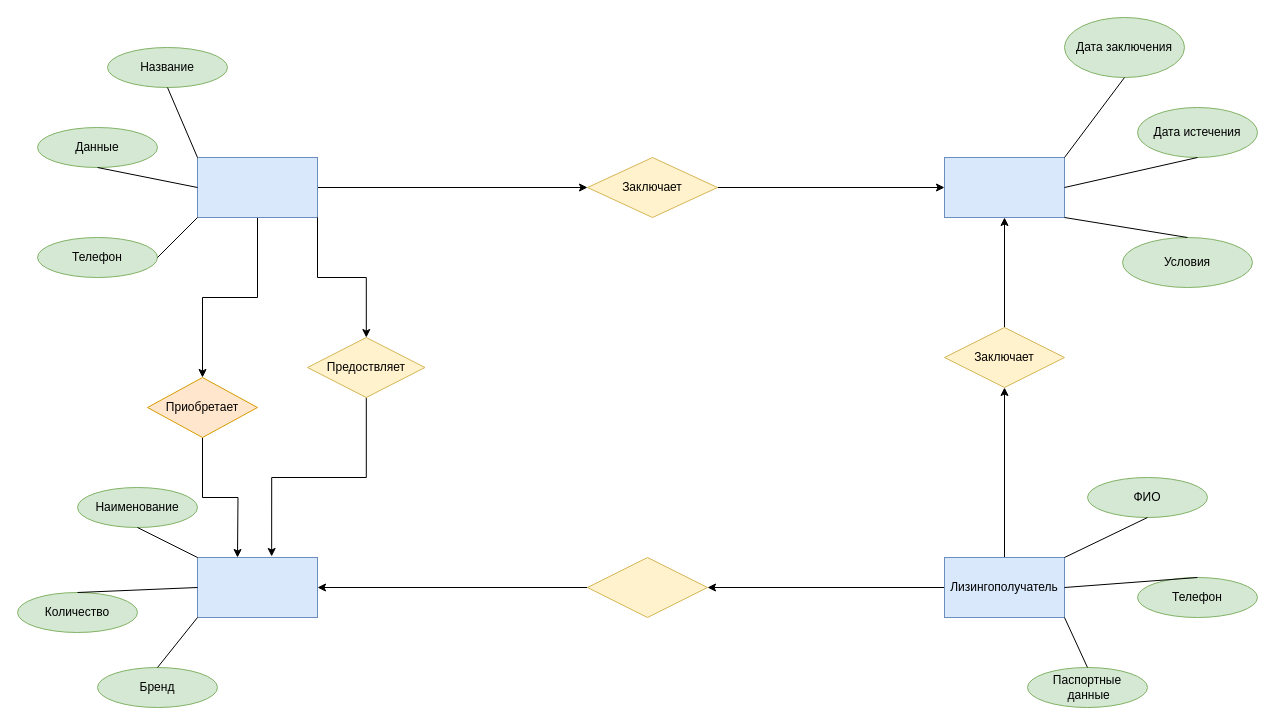
Image size: 1275x725. Some labels were removed from this diagram. Here are the shapes that lost their labels. From the top down, the box of each, then its label:
(196, 156, 318, 218): Лизинговая компания
(944, 156, 1064, 218): Договор
(196, 556, 318, 618): Товар
(586, 556, 708, 618): Временно пользуется
